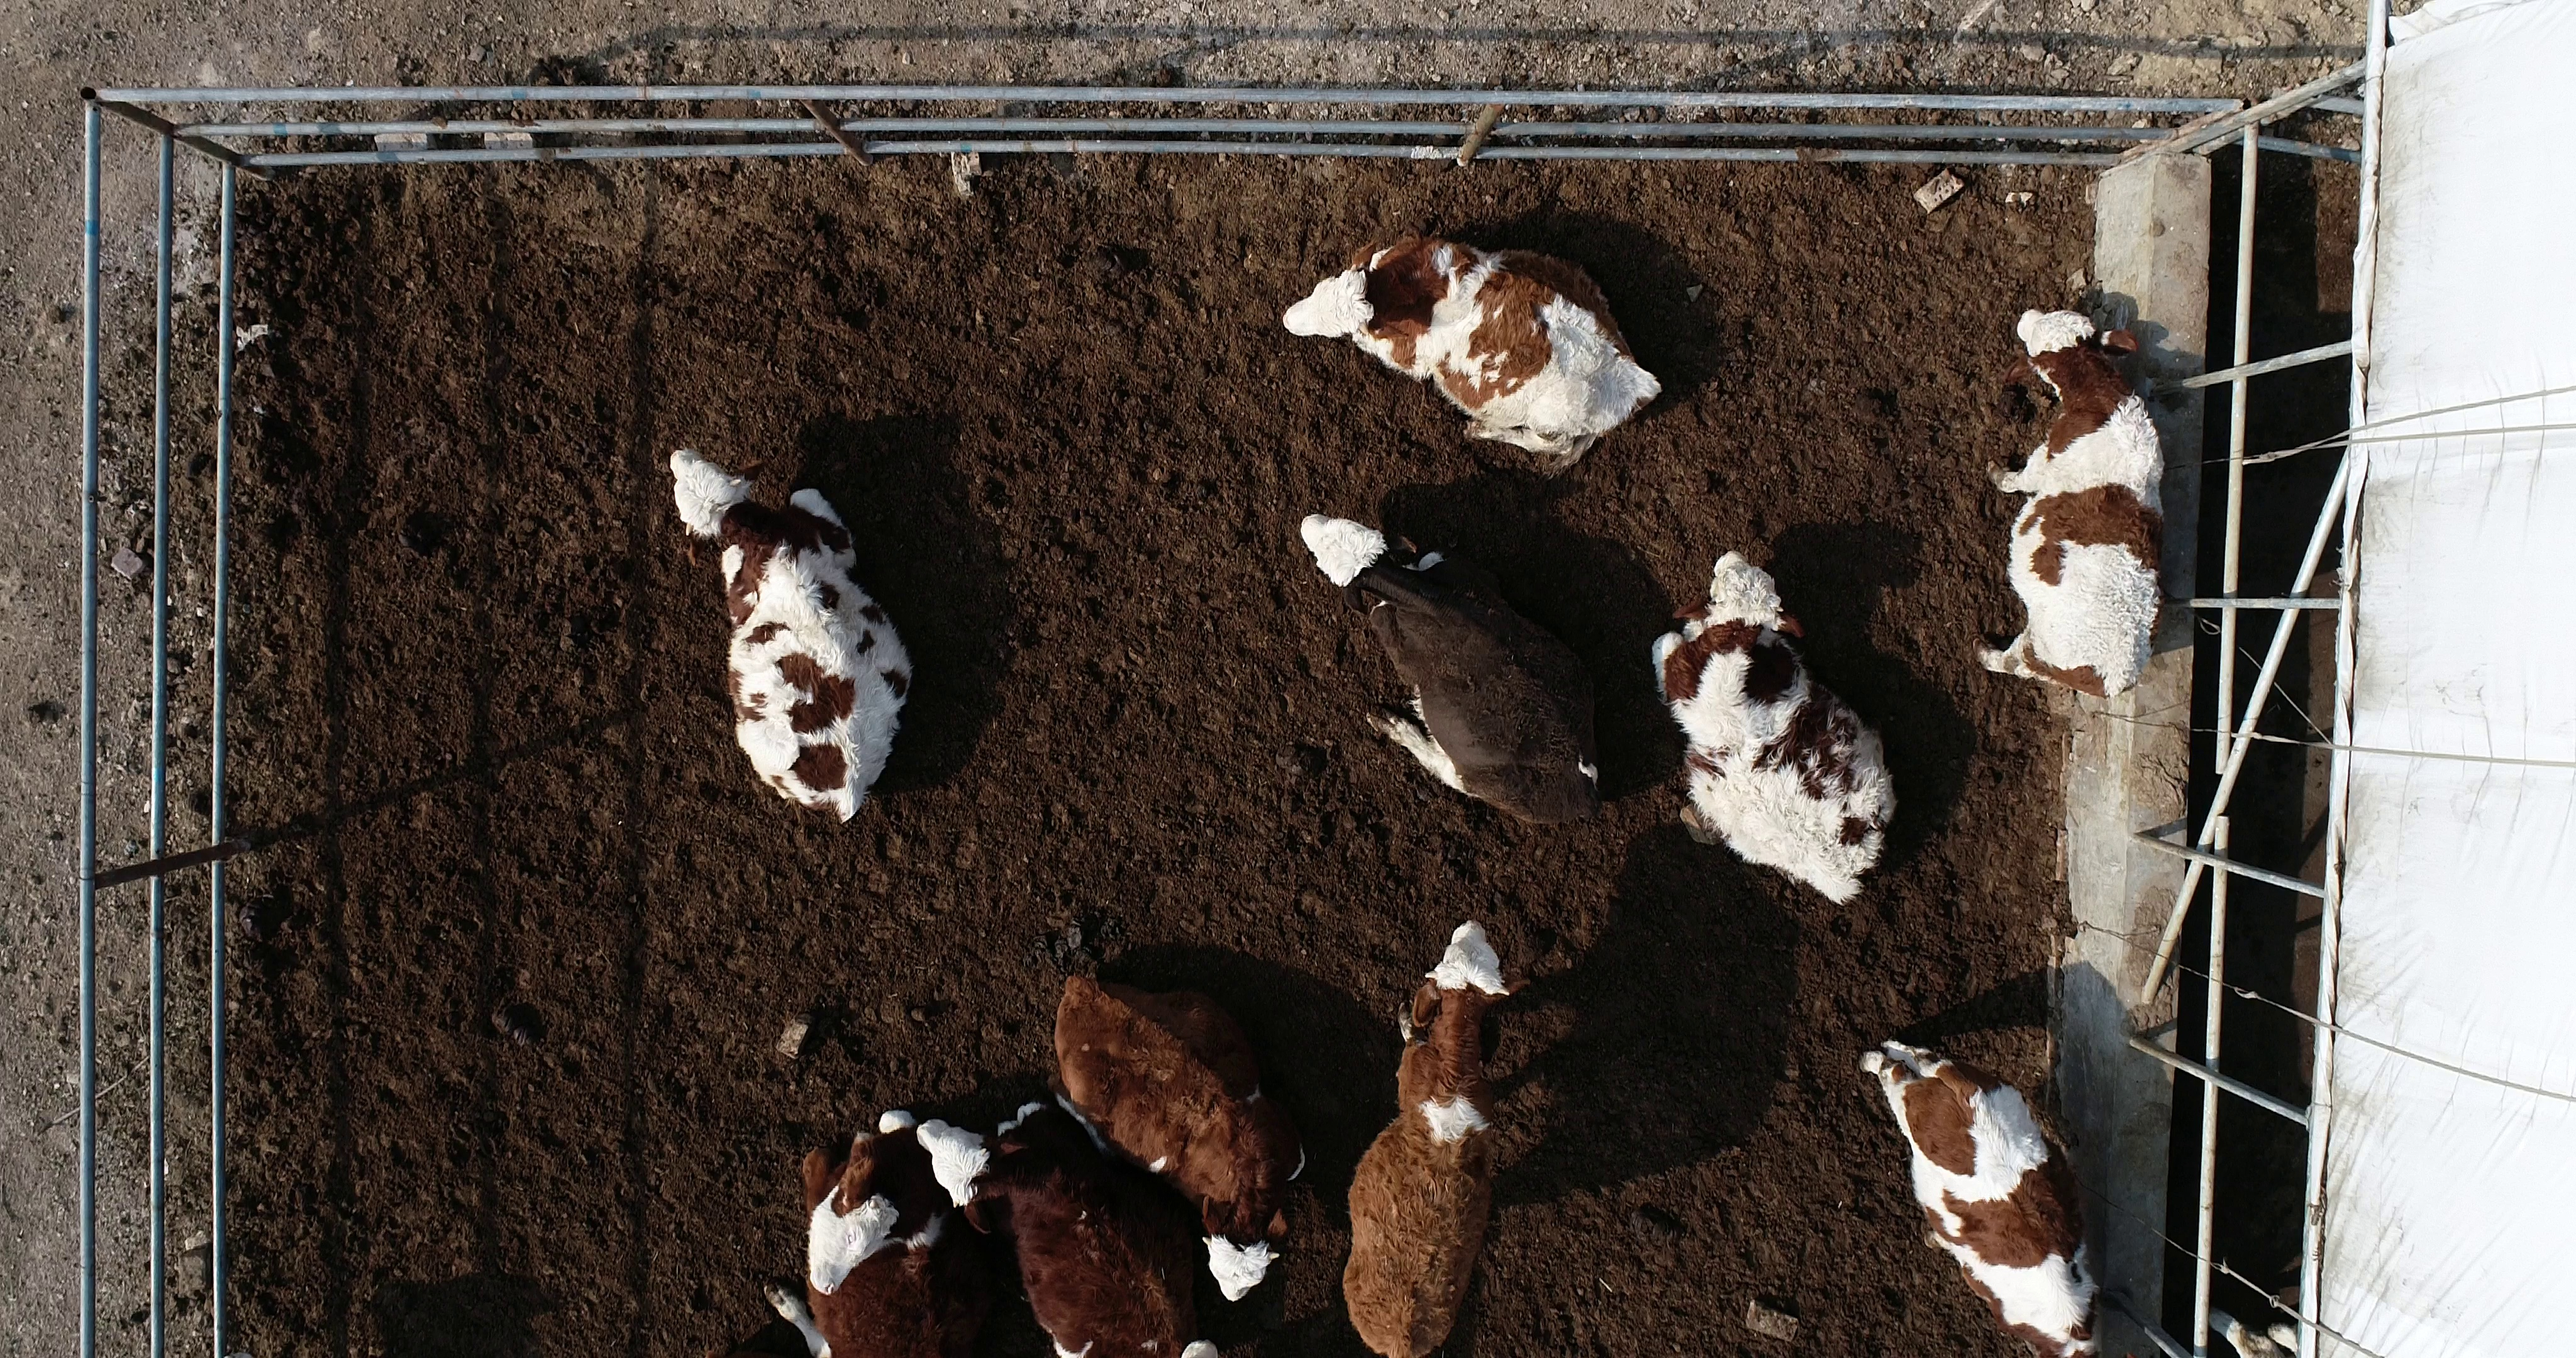cattle: (658, 436, 918, 833), (1274, 227, 1668, 482), (1966, 298, 2172, 704)
